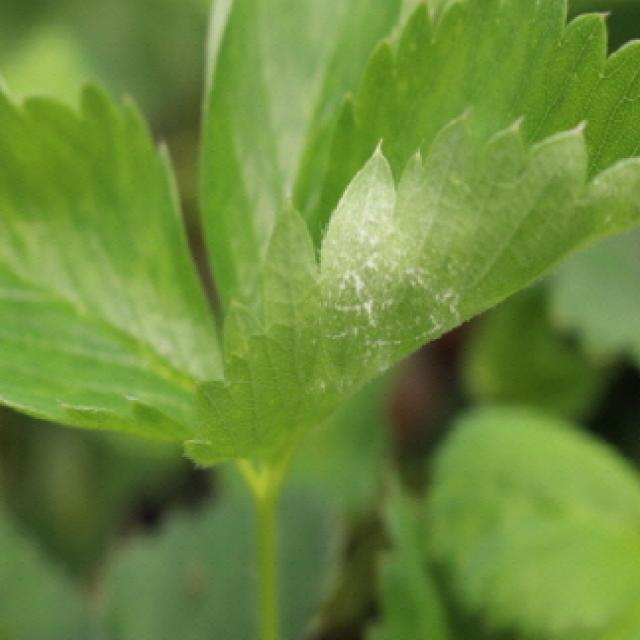Powdery Mildew Leaf: (179, 0, 640, 470)
